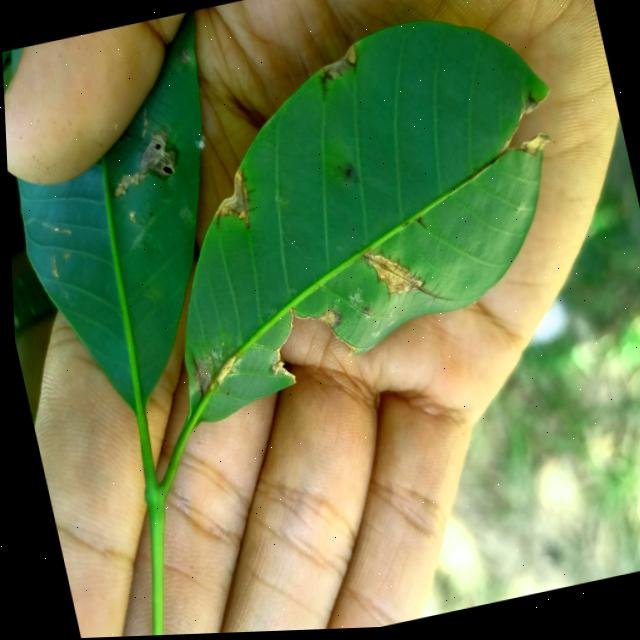Corynespora: (356, 241, 448, 318), (230, 165, 259, 231)
Leaf-Blight: (201, 169, 245, 225), (514, 135, 554, 162)
